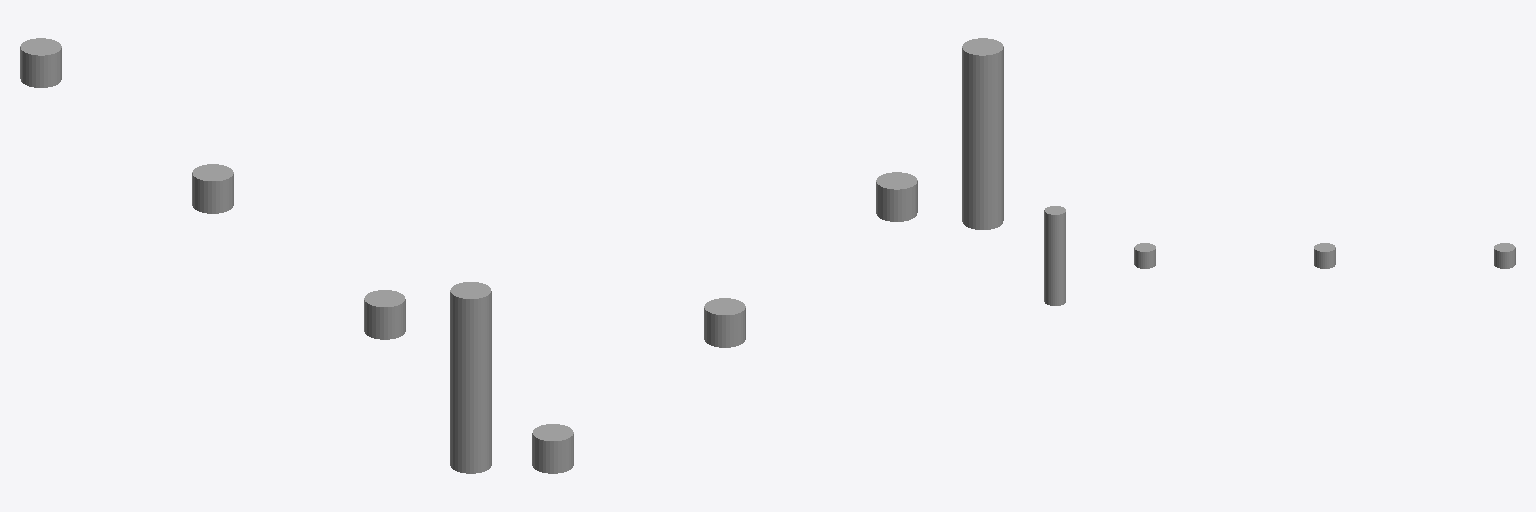
URDF robot description (ur5):
<?xml version="1.0" ?>
<!-- =================================================================================== -->
<!-- |    This document was autogenerated by xacro from ur5_robot.urdf.xacro           | -->
<!-- |    EDITING THIS FILE BY HAND IS NOT RECOMMENDED                                 | -->
<!-- =================================================================================== -->
<robot name="ur5" xmlns:xacro="http://ros.org/wiki/xacro">

  <link name="base_link">
    <visual>
      <geometry>
        <cylinder length="0.049999946799972" radius="0.06"/>
      </geometry>
      <material name="LightGrey">
        <color rgba="0.7 0.7 0.7 1.0"/>
      </material>
    </visual>
    <collision>
      <geometry>
        <cylinder length="0.049999946799972" radius="0.06"/>
      </geometry>
    </collision>
   <inertial>
      <mass value="4.0"/>
      <origin rpy="0 0 0" xyz="0.0 0.0 0.0"/>
      <inertia ixx="0.00443333156" ixy="0.0" ixz="0.0" iyy="0.00443333156" iyz="0.0" izz="0.0072"/>
    </inertial>
  </link>
  <joint name="shoulder_pan_joint" type="revolute">
    <parent link="base_link"/>
    <child link="shoulder_link"/>
    <origin rpy="0.0 0.0 0.0" xyz="0.0 0.0 0.0"/>
    <axis xyz="1 0 0"/>
    <limit effort="150.0" lower="-6.28318530718" upper="6.28318530718" velocity="3.15"/>
    <dynamics damping="0.0" friction="0.0"/>
  </joint>
  <link name="shoulder_link">
    <visual>
      <geometry>
         <cylinder length="0.149999955599993" radius="0.06"/>
      </geometry>
      <material name="LightGrey">
        <color rgba="0.7 0.7 0.7 1.0"/>
      </material>
    </visual>
    <collision>
      <geometry>
        <cylinder length="0.149999955599993" radius="0.06"/>
      </geometry>
    </collision>
    <inertial>
      <mass value="3.7"/>
      <origin rpy="0 0 0" xyz="0.0 0.0 0.0"/>
      <inertia ixx="0.010267495893" ixy="0.0" ixz="0.0" iyy="0.010267495893" iyz="0.0" izz="0.00666"/>
    </inertial>
  </link>
  <joint name="shoulder_lift_joint" type="revolute">
    <parent link="shoulder_link"/>
    <child link="upper_arm_link"/>
    <origin rpy="0.0 0 0.0" xyz="0.0 0.0 0.0"/>
    <axis xyz="1 0 0"/>
    <limit effort="150.0" lower="-6.28318530718" upper="6.28318530718" velocity="3.15"/>
    <dynamics damping="0.0" friction="0.0"/>
  </joint>
  <link name="upper_arm_link">
    <visual>
      <geometry>
        <cylinder length="0.559999884142386" radius="0.06"/>
      </geometry>
      <material name="LightGrey">
        <color rgba="0.7 0.7 0.7 1.0"/>
      </material>
    </visual>
    <collision>
      <geometry>
        <cylinder length="0.559999884142386" radius="0.06"/>
      </geometry>
    </collision>
    <inertial>
      <mass value="8.393"/>
      <origin rpy="0 0 0" xyz="0.0 0.0 0.0"/>
      <inertia ixx="0.22689067591" ixy="0.0" ixz="0.0" iyy="0.22689067591" iyz="0.0" izz="0.0151074"/>
    </inertial>
  </link>
   <joint name="elbow_joint" type="revolute">
    <parent link="upper_arm_link"/>
    <child link="forearm_link"/>
    <origin rpy="0.0 0.0 0.0" xyz="0.0 0.0 0.0"/>
    <axis xyz="0 1 0"/>
    <limit effort="150.0" lower="-3.14159265359" upper="3.14159265359" velocity="3.15"/>
    <dynamics damping="0.0" friction="0.0"/>
  </joint>
  <link name="forearm_link">
    <visual>
      <geometry>
        <cylinder length="0.104" radius="0.06"/>
      </geometry>
      <material name="LightGrey">
        <color rgba="0.7 0.7 0.7 1.0"/>
      </material>
    </visual>
    <collision>
      <geometry>
       <cylinder length="0.104" radius="0.06"/>
      </geometry>
    </collision>
    <inertial>
      <origin rpy="0 0 0" xyz="0.1 0.0 0.0"/>
      <mass value="2.275"/>
      <inertia ixx="0.049443313556" ixy="0.0" ixz="0.0" iyy="0.049443313556" iyz="0.0" izz="0.004095"/>
    </inertial>
  </link>
  <joint name="wrist_1_joint" type="revolute">
    <parent link="forearm_link"/>
    <child link="wrist_1_link"/>
    <origin rpy="0.0 0.0 0.0" xyz="0.0 0.5 0.0"/>
    <axis xyz="1 0 0"/>
    <limit effort="28.0" lower="-6.28318530718" upper="6.28318530718" velocity="3.2"/>
    <dynamics damping="0.0" friction="0.0"/>
  </joint>
  <link name="wrist_1_link">
    <visual>
      <geometry>
        <cylinder length="0.104" radius="0.06"/>
      </geometry>
      <material name="LightGrey">
        <color rgba="0.7 0.7 0.7 1.0"/>
      </material>
    </visual>
    <collision>
      <geometry>
        <cylinder length="0.104" radius="0.06"/>
      </geometry>
    </collision>
    <inertial>
      <mass value="1.219"/>
      <origin rpy="0 0 0" xyz="0.0 0.0 0.0"/>
      <inertia ixx="0.111172755531" ixy="0.0" ixz="0.0" iyy="0.111172755531" iyz="0.0" izz="0.21942"/>
    </inertial>
  </link>
  <joint name="wrist_2_joint" type="revolute">
    <parent link="wrist_1_link"/>
    <child link="wrist_2_link"/>
    <origin rpy="0.0 0.0 0.0" xyz="0.0 1.0 0.0"/>
    <axis xyz="1 0 0"/>
    <limit effort="28.0" lower="-6.28318530718" upper="6.28318530718" velocity="3.2"/>
    <dynamics damping="0.0" friction="0.0"/>
  </joint>
  <link name="wrist_2_link">
    <visual>
      <geometry>
        <cylinder length="0.104" radius="0.06"/>
      </geometry>
      <material name="LightGrey">
        <color rgba="0.7 0.7 0.7 1.0"/>
      </material>
    </visual>
    <collision>
      <geometry>
        <cylinder length="0.104" radius="0.06"/>
      </geometry>
    </collision>
    <inertial>
      <mass value="1.219"/>
      <origin rpy="0 0 0" xyz="1.0 0.0 0.0"/>
      <inertia ixx="0.111172755531" ixy="0.0" ixz="0.0" iyy="0.111172755531" iyz="0.0" izz="0.21942"/>
    </inertial>
  </link>
  <joint name="wrist_3_joint" type="revolute">
    <parent link="wrist_2_link"/>
    <child link="wrist_3_link"/>
    <origin rpy="0.0 0.0 0.0" xyz="0.0 1.0 0.0"/>
    <axis xyz="1 0 0"/>
    <limit effort="28.0" lower="-6.28318530718" upper="6.28318530718" velocity="3.2"/>
    <dynamics damping="0.0" friction="0.0"/>
  </joint>
  <link name="wrist_3_link">
    <visual>
      <geometry>
      <cylinder length="0.104" radius="0.06"/>
      </geometry>
      <material name="LightGrey">
        <color rgba="0.7 0.7 0.7 1.0"/>
      </material>
    </visual>
    <collision>
      <geometry>
        <cylinder length="0.104" radius="0.06"/>
      </geometry>
    </collision>
    <inertial>
    <mass value="1"/>
    <origin rpy="0 0 0" xyz="1 1 1"/>
    <inertia ixx="1.0" ixy="0.0" ixz="0.0" iyy="1.0" iyz="0.0" izz="1.0"/>
  </inertial>
  </link>

</robot>

--- Render facts (derived) ---
Views: 3 orthographic renders of the robot side by side, from view 1: azimuth 30°, elevation 25°; view 2: azimuth 150°, elevation 25°; view 3: azimuth 270°, elevation 25°.
Robot: ur5 — 7 links, 6 joints (6 revolute); root link base_link; default pose: all joints at 0.
Links seen in each view (by area): view 1: upper_arm_link, wrist_1_link, wrist_3_link, wrist_2_link, shoulder_link; view 2: upper_arm_link, wrist_1_link, wrist_3_link, wrist_2_link, shoulder_link; view 3: upper_arm_link, wrist_2_link, wrist_1_link, wrist_3_link.
Link boxes in pixels (<box>): upper_arm_link: <box>450,282,491,473</box>; wrist_1_link: <box>364,290,405,339</box>; wrist_3_link: <box>20,38,61,87</box>; wrist_2_link: <box>192,164,233,213</box>; shoulder_link: <box>450,355,491,409</box>; upper_arm_link: <box>962,38,1003,229</box>; wrist_1_link: <box>876,172,917,221</box>; wrist_3_link: <box>532,424,573,473</box>; wrist_2_link: <box>704,298,745,347</box>; shoulder_link: <box>962,111,1003,165</box>; upper_arm_link: <box>1044,206,1065,305</box>; wrist_2_link: <box>1314,243,1335,268</box>; wrist_1_link: <box>1134,243,1155,268</box>; wrist_3_link: <box>1494,243,1515,268</box>.
Size in the robot's own frame: 0.12 by 2.62 by 0.56 metres.
Geometry: primitives only (box / cylinder / sphere), no mesh files.